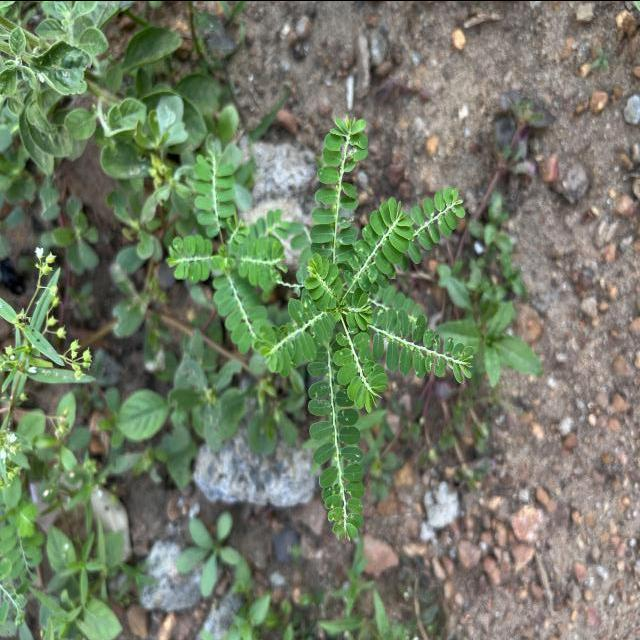Phyllanthus niruri: (306, 354, 366, 544), (310, 112, 369, 258), (372, 303, 475, 385), (252, 289, 336, 377), (344, 194, 416, 290), (332, 328, 388, 414), (410, 186, 468, 250), (305, 251, 343, 312)
